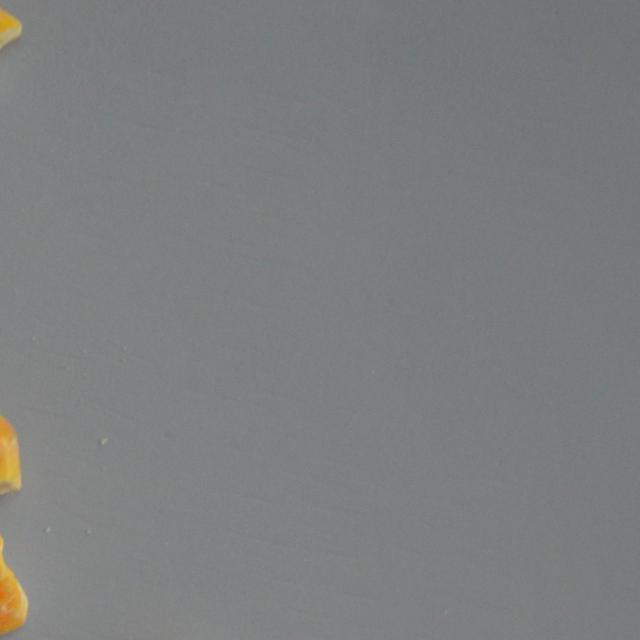no_canjicado: (0, 409, 22, 496)
pelicula: (0, 522, 29, 640), (0, 0, 21, 110)
